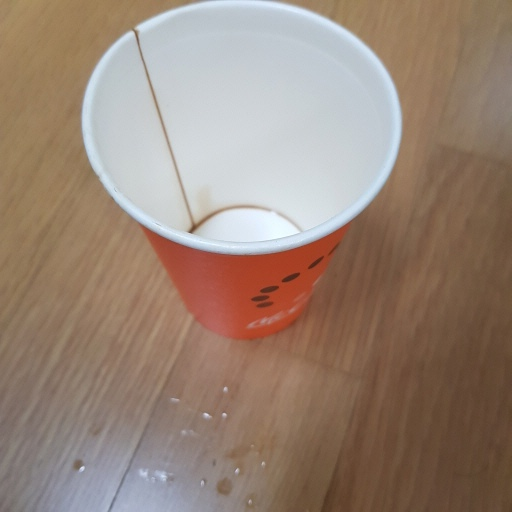Paper_1: (78, 3, 399, 338)
